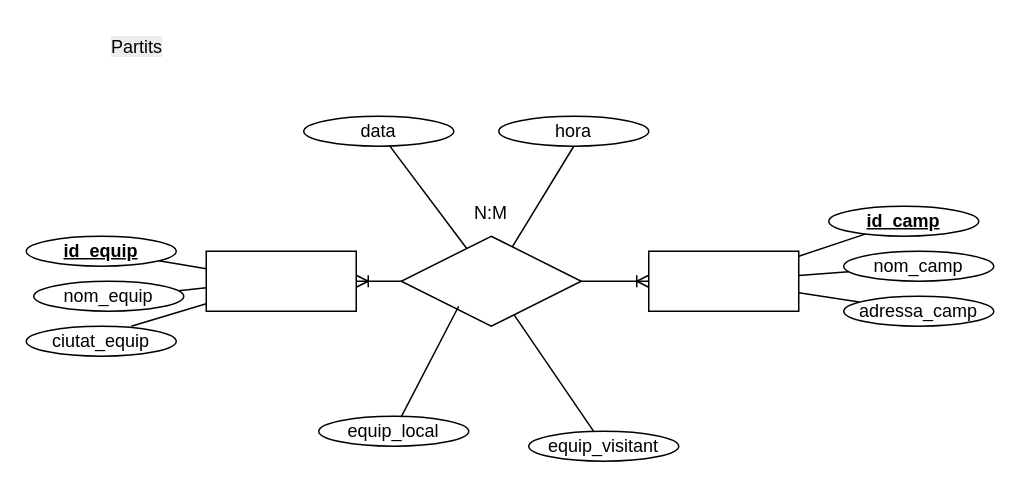
Image size: 1020x488. Some labels were removed from this diagram. The shapes that lost their labels are listed below. From the top down, each one's centre as x and y in pixels, then its label:
the point at 280,280: EQUIPS
the point at 490,280: juga_partit
the point at 723,280: CAMPS
